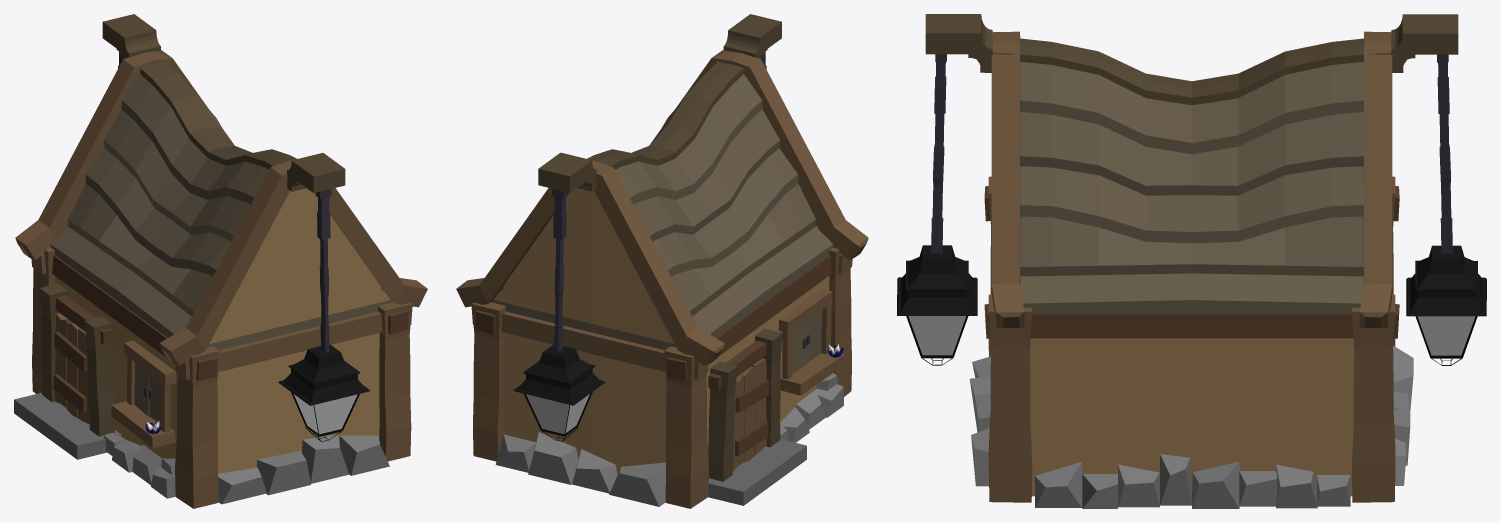
Rendered from casa3.fbx.
3 views of the same model, side by side, from view 1: azimuth 30°, elevation 25°; view 2: azimuth 150°, elevation 25°; view 3: azimuth 270°, elevation 25° (orthographic). The views are drawn at different scales.
Parts seen in each view (by area): view 1: casa.002, pedras.002, negocinho feio.002, madeira porta.002, janela.006, porta.002, negocinho feio.025, porta.010, negocinho feio.024; view 2: casa.002, pedras.002, negocinho feio.002, janela.006, madeira porta.002, porta.002, negocinho feio.025, porta.010, negocinho feio.024; view 3: casa.002, pedras.002, negocinho feio.002, negocinho feio.025, negocinho feio.024.
Boxes of the visible parts, left/top/right/bottom form: casa.002: left=15, top=50, right=427, bottom=508; pedras.002: left=104, top=432, right=389, bottom=504; negocinho feio.002: left=102, top=14, right=345, bottom=352; madeira porta.002: left=40, top=283, right=114, bottom=436; janela.006: left=111, top=340, right=176, bottom=447; porta.002: left=14, top=295, right=121, bottom=459; negocinho feio.025: left=278, top=344, right=370, bottom=405; porta.010: left=53, top=313, right=89, bottom=423; negocinho feio.024: left=294, top=394, right=357, bottom=434; casa.002: left=456, top=50, right=868, bottom=508; pedras.002: left=495, top=373, right=843, bottom=506; negocinho feio.002: left=538, top=14, right=781, bottom=352; janela.006: left=778, top=288, right=845, bottom=395; madeira porta.002: left=708, top=328, right=782, bottom=481; porta.002: left=708, top=340, right=806, bottom=505; negocinho feio.025: left=513, top=344, right=605, bottom=405; porta.010: left=732, top=358, right=768, bottom=471; negocinho feio.024: left=526, top=394, right=589, bottom=434; casa.002: left=984, top=31, right=1399, bottom=502; pedras.002: left=969, top=345, right=1413, bottom=508; negocinho feio.002: left=925, top=14, right=1458, bottom=253; negocinho feio.025: left=897, top=245, right=1486, bottom=316; negocinho feio.024: left=908, top=316, right=1475, bottom=355.
Size of the model in its own units: 3132 by 3593 by 4638.
